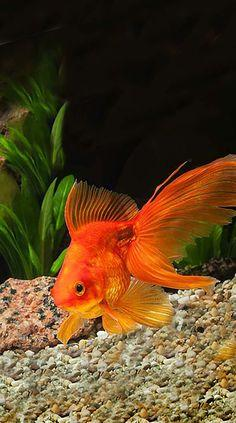goldfish: (44, 156, 236, 341)
